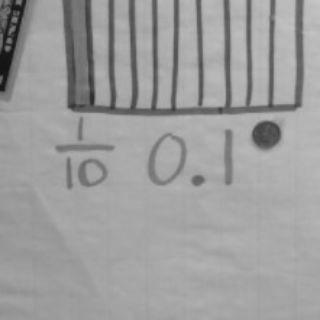.: (189, 173, 207, 188)
0: (145, 124, 188, 189), (77, 155, 115, 191)
1: (221, 126, 240, 189), (57, 153, 77, 191), (72, 112, 89, 141)
